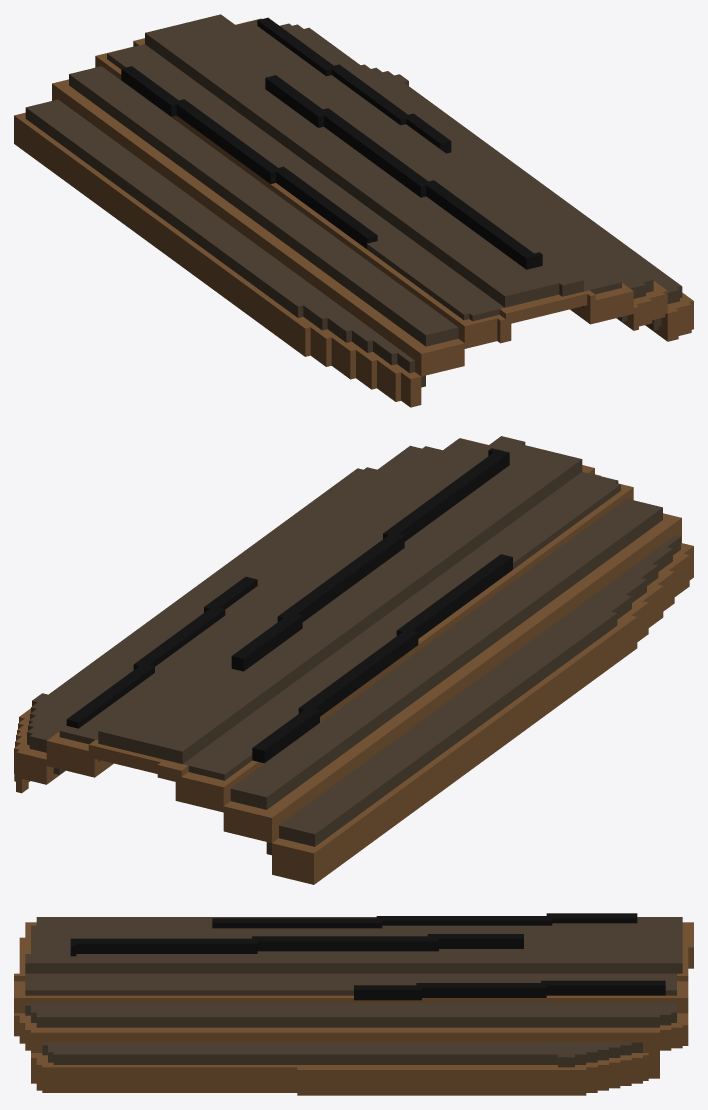
File: tanbark.glb
3 renders of one model, top to bottom at view 1: azimuth 30°, elevation 25°; view 2: azimuth 150°, elevation 25°; view 3: azimuth 270°, elevation 25°, orthographic. The views are drawn at different scales.
Parts seen in each view (by area): view 1: tanbark:compound; view 2: tanbark:compound; view 3: tanbark:compound.
Part boxes in pixels (box(x1,y1,x2,y2)): tanbark:compound: box(14, 14, 693, 407); tanbark:compound: box(14, 436, 693, 884); tanbark:compound: box(14, 913, 693, 1095).
Size of the model in its own units: 0.12 by 0.034 by 0.24.
